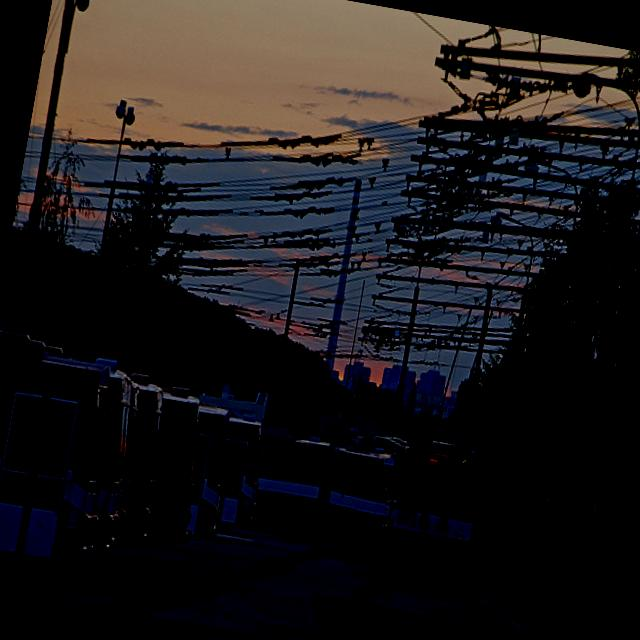Vehicle: (372, 436, 488, 596), (73, 360, 152, 560), (136, 379, 217, 548), (102, 368, 177, 548), (176, 404, 238, 544), (207, 416, 270, 536)
